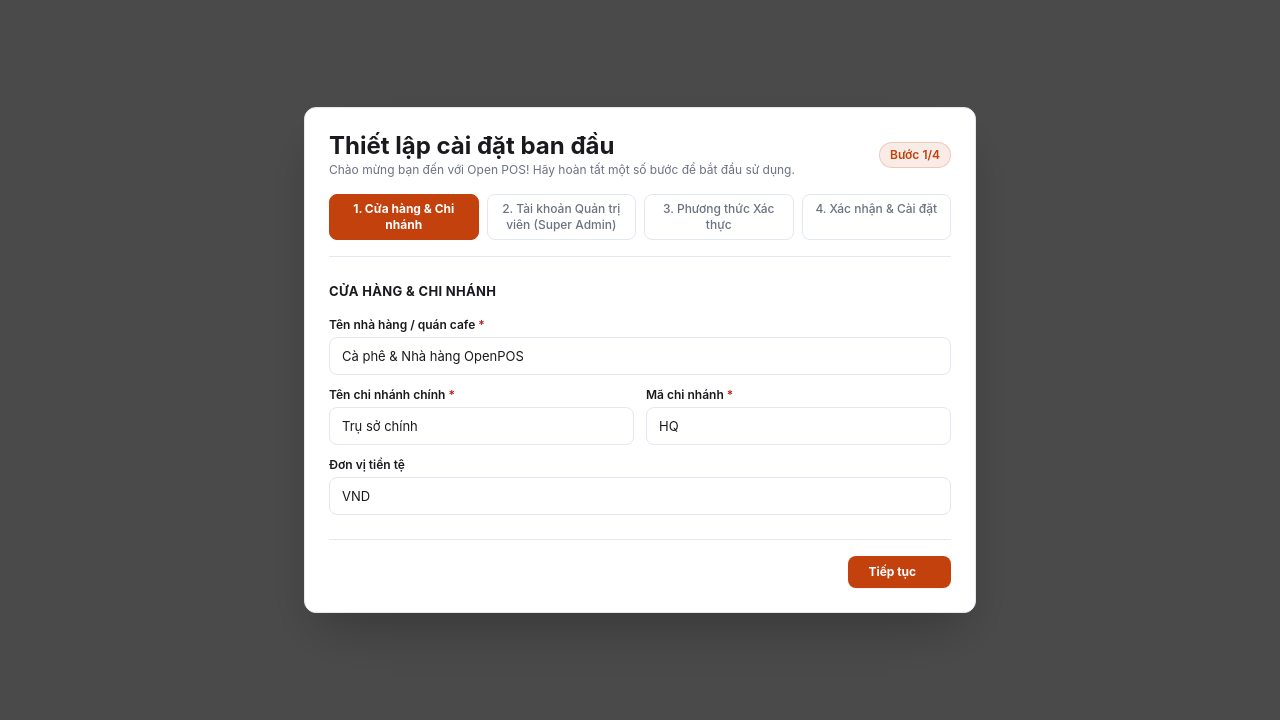
Test: InstallerWizard.vue › renders backend port field on Step 3 with default 8080
This screenshot has width=1280, height=720.
// Go to Step 2
Replace the text in the field with test id "store-name-input" with "Tiệm Trà Sen" at (640,356), box left=329, top=337, right=951, bottom=375
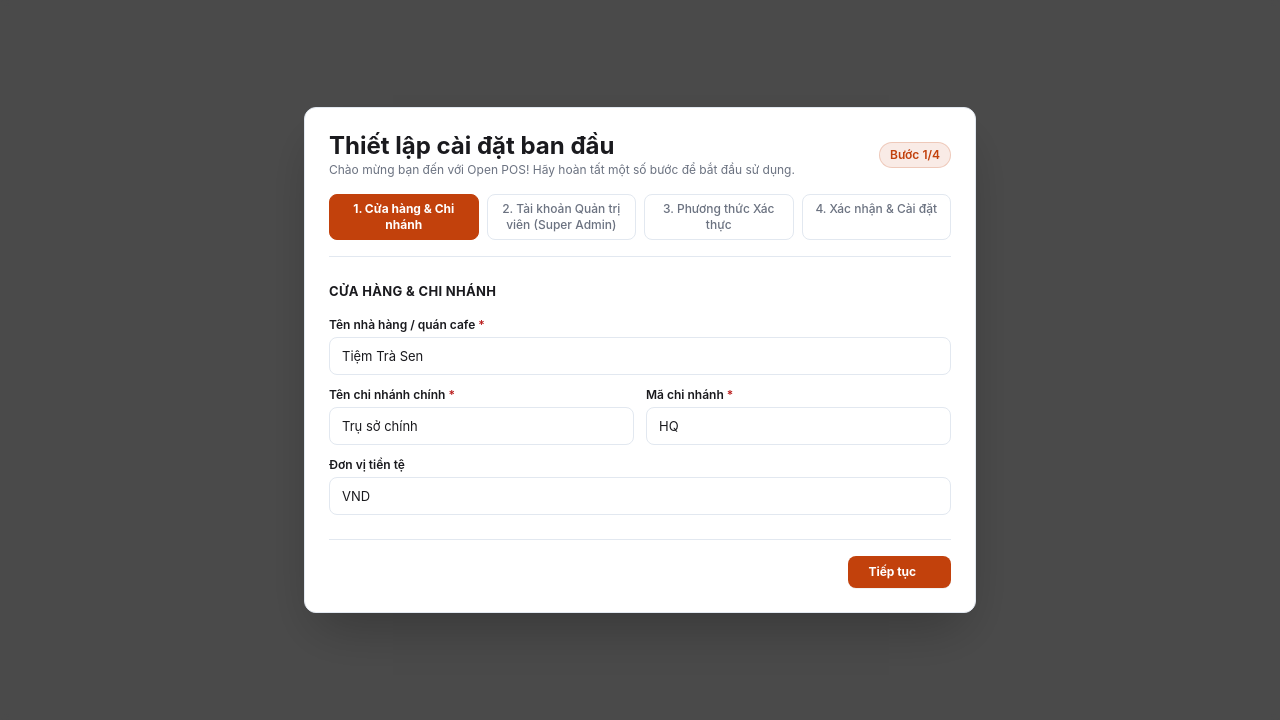
Click the button with test id "next-step-btn".
click(900, 572)  # box left=848, top=556, right=951, bottom=588
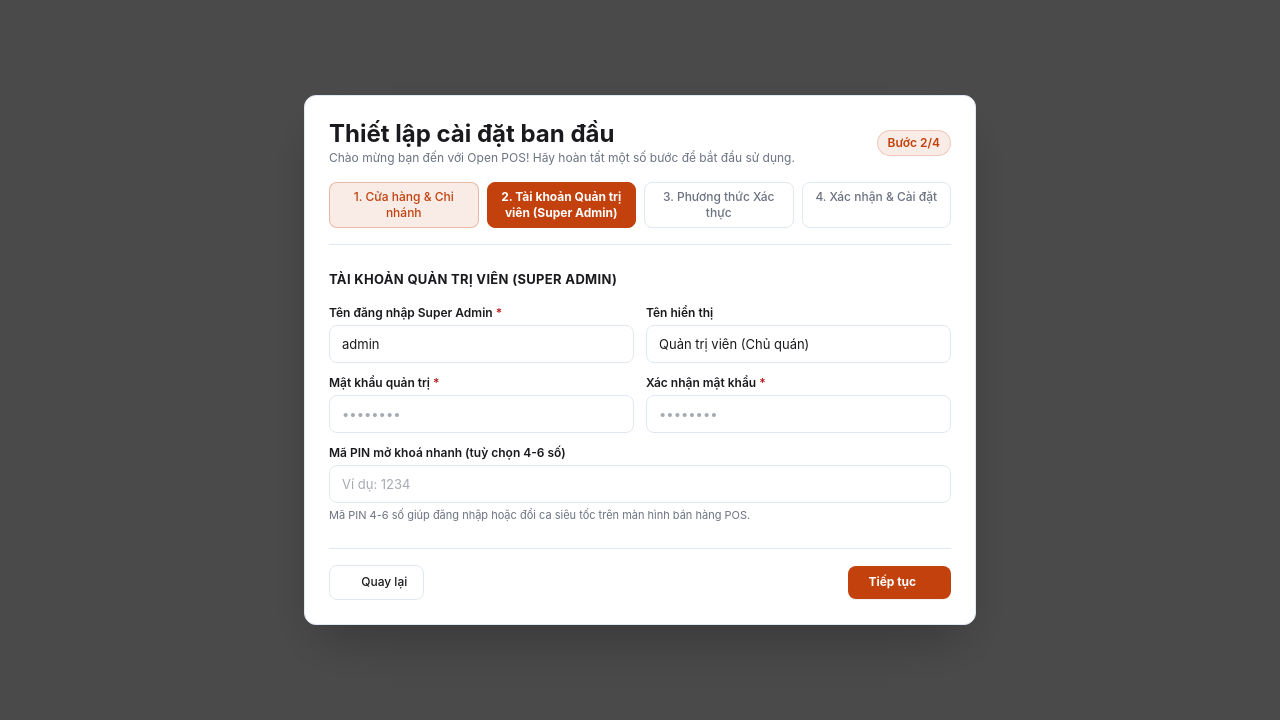
// Go to Step 3
Type "SecurePass123" into the password field with test id "admin-password-input".
click(482, 414); type("SecurePass123")  # box left=329, top=395, right=634, bottom=433
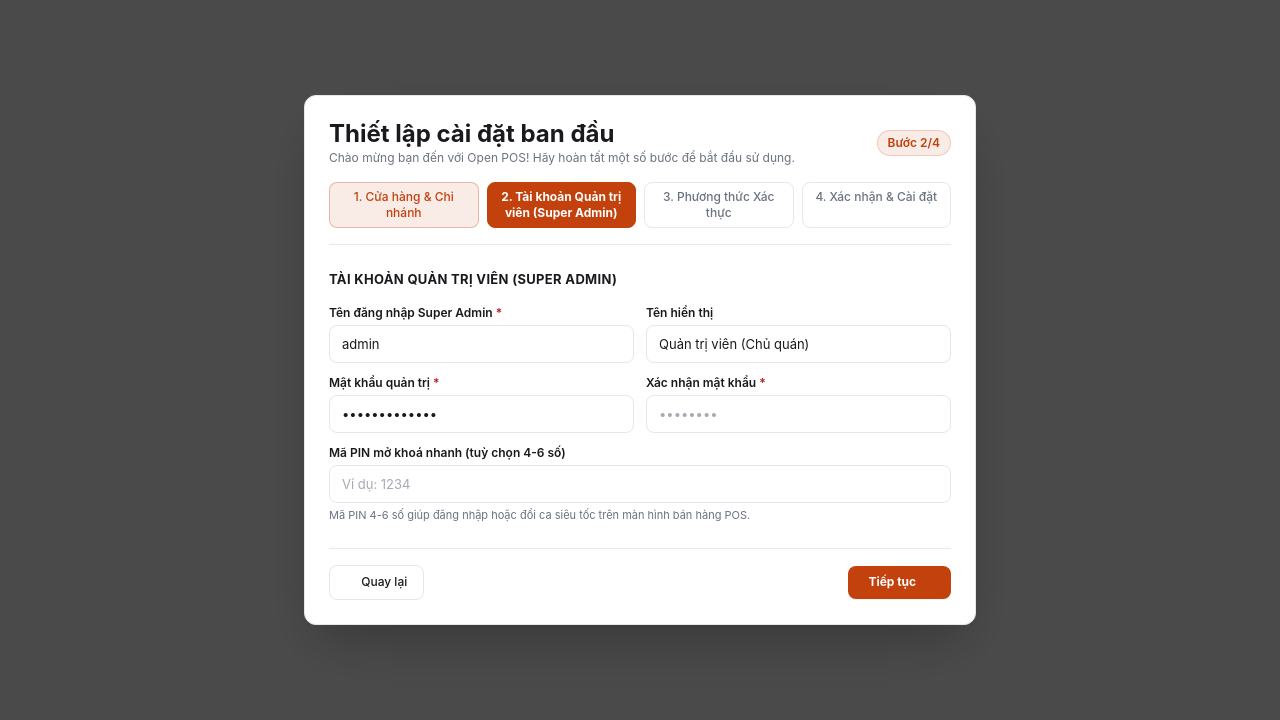
Type "SecurePass123" into the password field with test id "admin-confirm-password-input".
click(798, 414); type("SecurePass123")  # box left=646, top=395, right=951, bottom=433
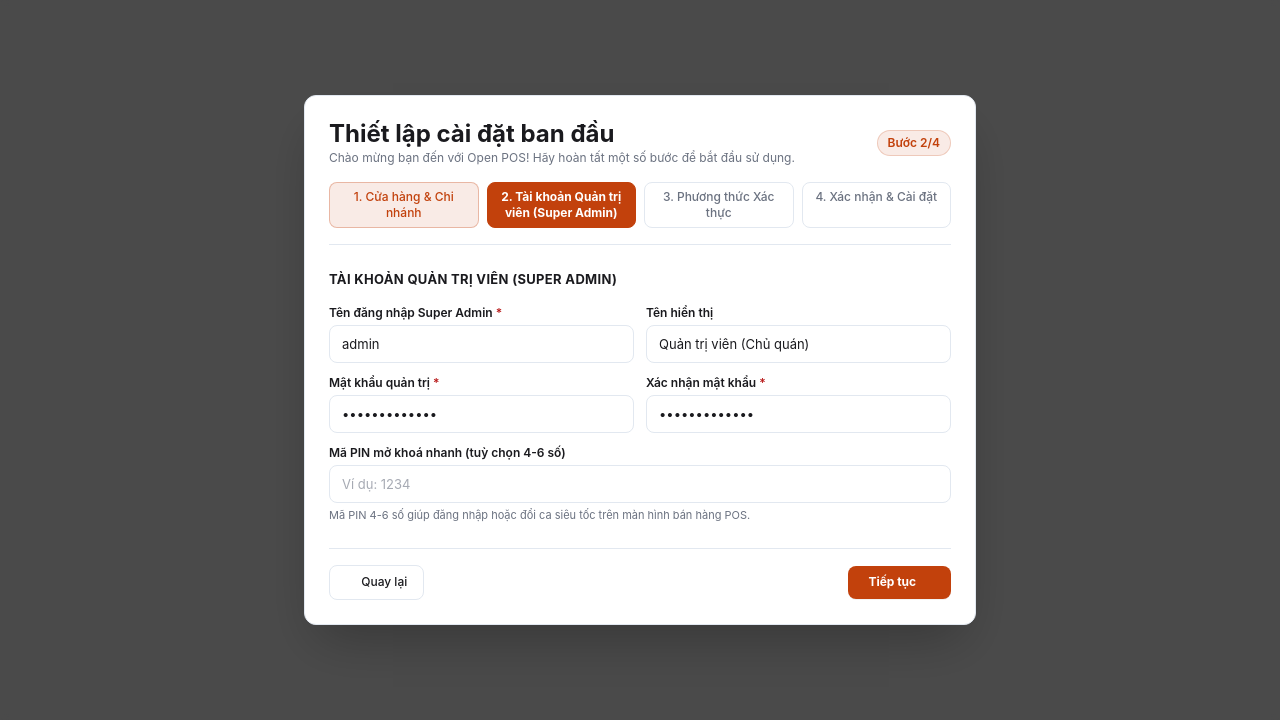
Click the button with test id "next-step-btn".
click(900, 582)  # box left=848, top=566, right=951, bottom=599
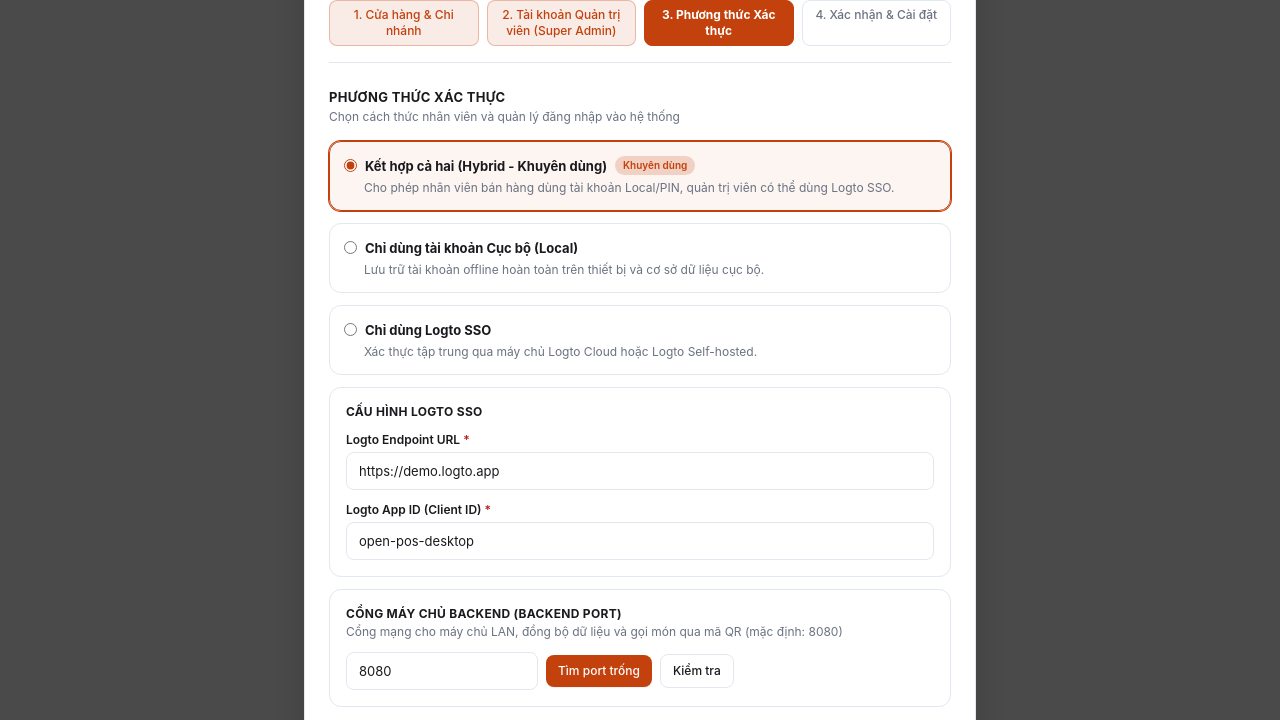
Now the field with test id "backend-port-input" holds "8080", box left=346, top=652, right=538, bottom=690
Now the button with test id "find-port-btn" is shown, box left=546, top=655, right=652, bottom=687
Now the button with test id "check-port-btn" is shown, box left=660, top=654, right=734, bottom=688
